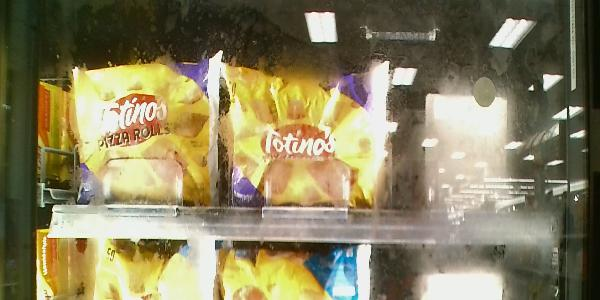icecream: (224, 60, 386, 206), (71, 59, 218, 206)
